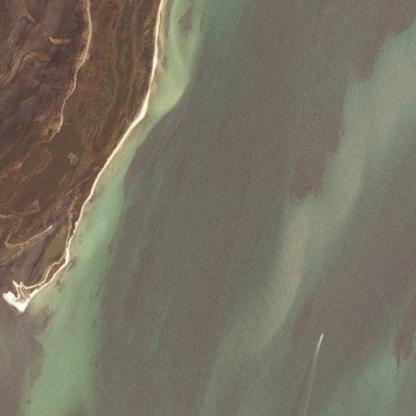ship: (319, 332, 322, 335)
